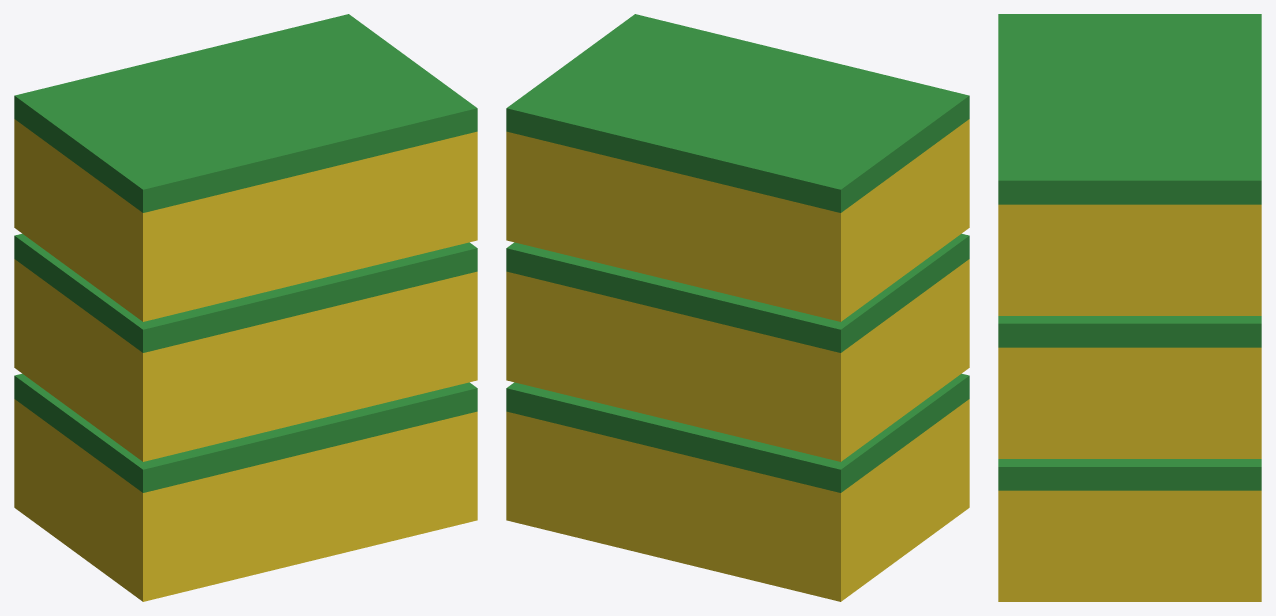
The model's file is Sponges.fbx.
3 views of the same model, side by side, from view 1: azimuth 30°, elevation 25°; view 2: azimuth 150°, elevation 25°; view 3: azimuth 270°, elevation 25° (orthographic). The views are drawn at different scales.
Parts seen in each view (by area): view 1: Sponges; view 2: Sponges; view 3: Sponges.
Part boxes in pixels (x1=…): Sponges: x1=14, y1=14, x2=477, y2=601; Sponges: x1=506, y1=14, x2=969, y2=601; Sponges: x1=998, y1=14, x2=1261, y2=601.
Size of the model in its own units: 0.09 by 0.106 by 0.06.
